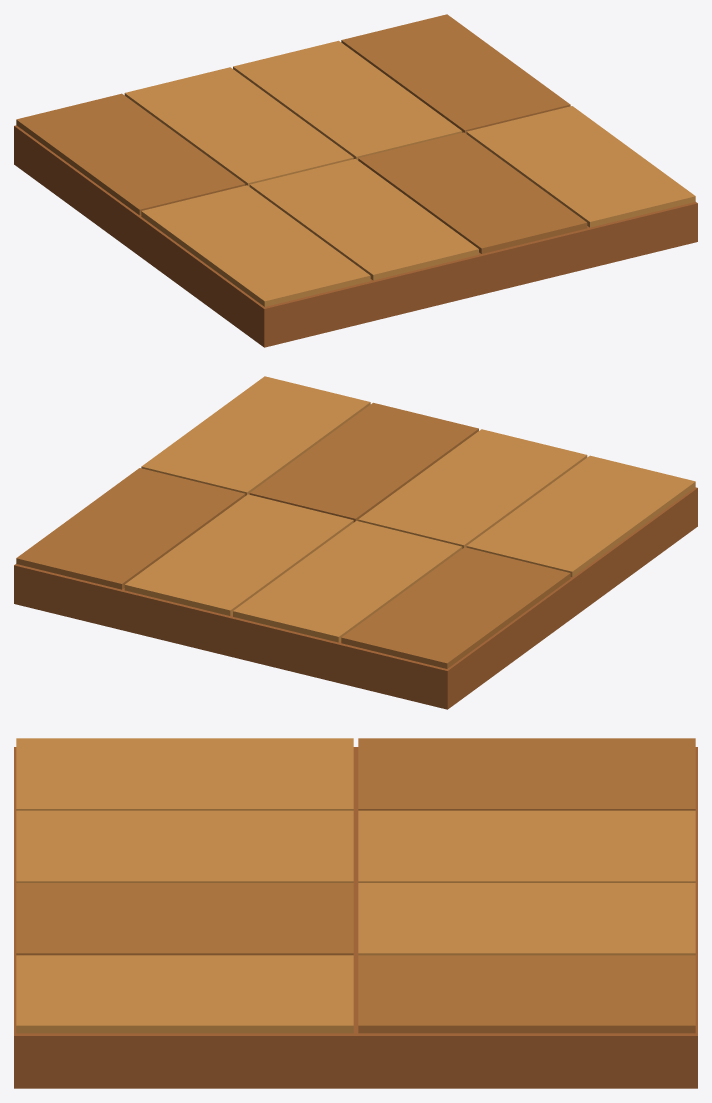
The model's file is floor.glb.
The picture shows the model from 3 angles, top to bottom: view 1: azimuth 30°, elevation 25°; view 2: azimuth 150°, elevation 25°; view 3: azimuth 270°, elevation 25°; orthographic projection. The views are drawn at different scales.
Parts seen in each view (by area): view 1: Shared_floor; view 2: Shared_floor; view 3: Shared_floor.
Part boxes in pixels (x1=…): Shared_floor: x1=14, y1=14, x2=697, y2=347; Shared_floor: x1=14, y1=376, x2=697, y2=709; Shared_floor: x1=14, y1=738, x2=697, y2=1088.
Bounding box in the file's own units: 2 × 0.2 × 2.
